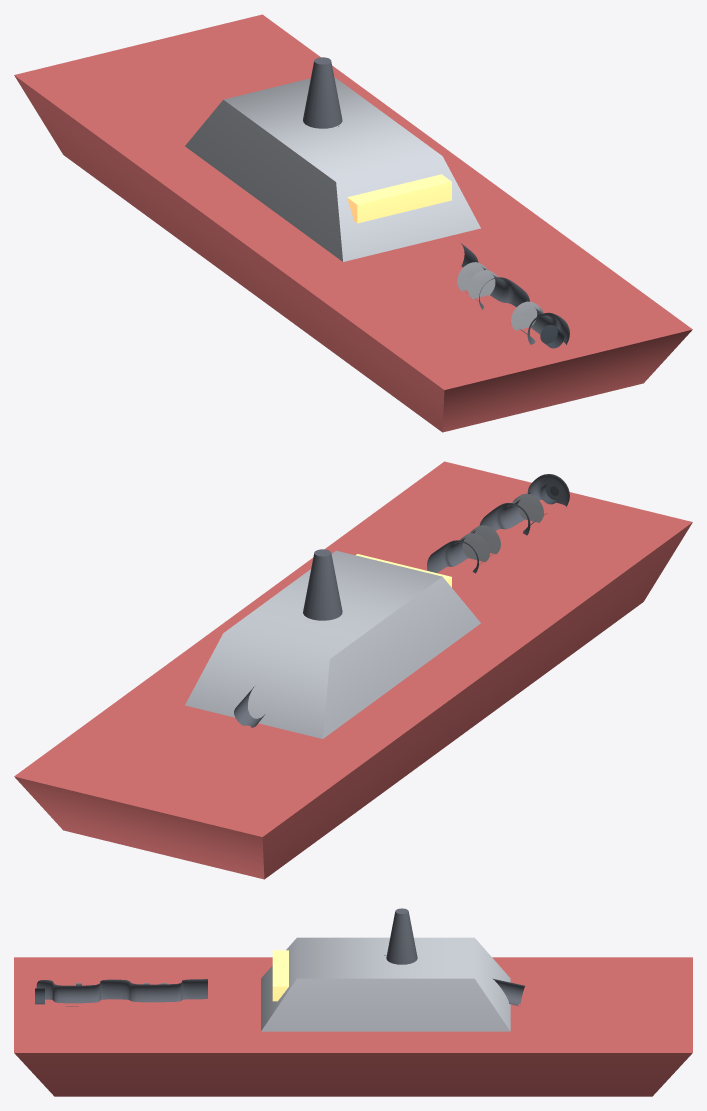
The model's file is hyd.glb.
3 renders of one model, top to bottom at view 1: azimuth 30°, elevation 25°; view 2: azimuth 150°, elevation 25°; view 3: azimuth 270°, elevation 25°, orthographic. The views are drawn at different scales.
Parts seen in each view (by area): view 1: Hull, Turret, Barrel; view 2: Hull, Turret, Barrel; view 3: Hull, Turret, Barrel.
Part boxes in pixels (x1=…): Hull: x1=14, y1=14, x2=692, y2=432; Turret: x1=185, y1=57, x2=451, y2=261; Barrel: x1=461, y1=243, x2=566, y2=326; Hull: x1=14, y1=461, x2=692, y2=879; Turret: x1=185, y1=549, x2=451, y2=738; Barrel: x1=429, y1=474, x2=567, y2=557; Hull: x1=14, y1=938, x2=692, y2=1096; Turret: x1=261, y1=908, x2=525, y2=1031; Barrel: x1=36, y1=979, x2=207, y2=986.
Bounding box in the file's own units: 1.68 × 1.2 × 5.04.
